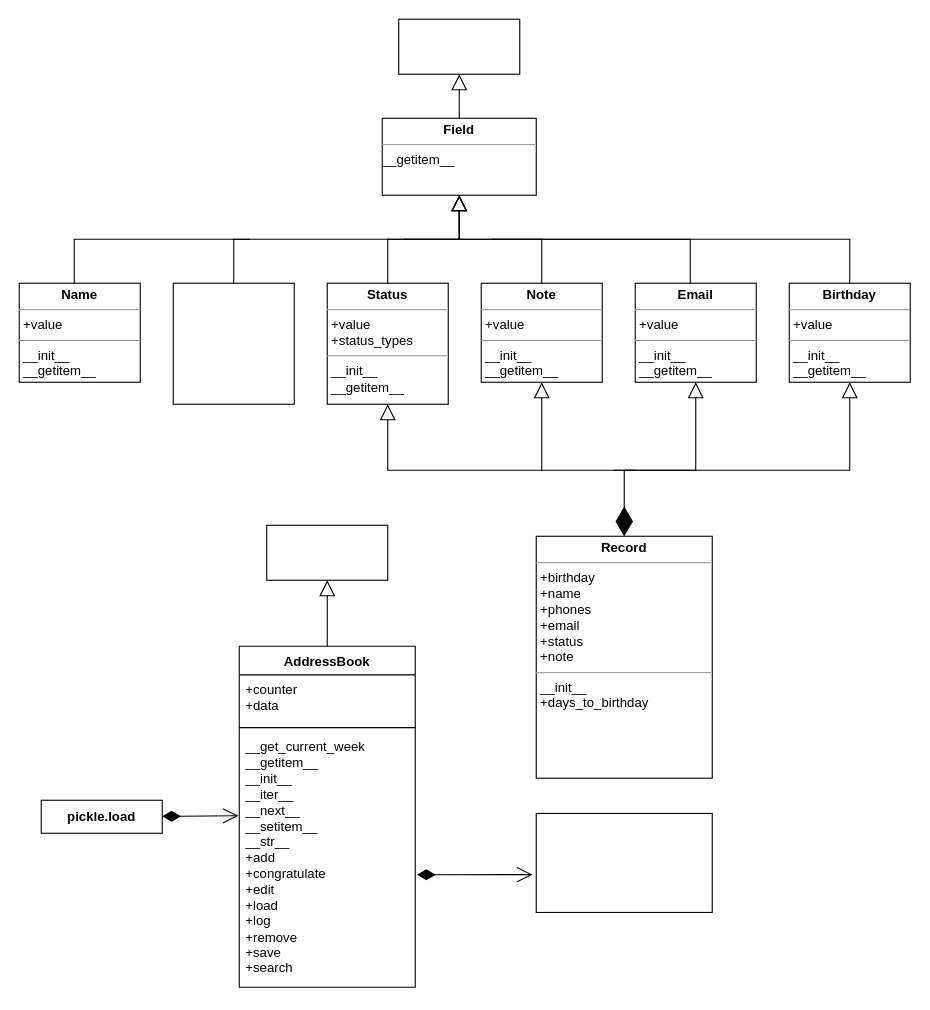
Some shapes in this 930 by 1010 pixel diagram are drawn without their labels. Each missing label, with the box of its shape:
ABC: (398, 18, 520, 74)
Bot +book __init__ +handle: (535, 812, 712, 912)
Phone +value +values __init__ __getitem__: (172, 282, 294, 404)
UserList: (266, 524, 388, 580)
